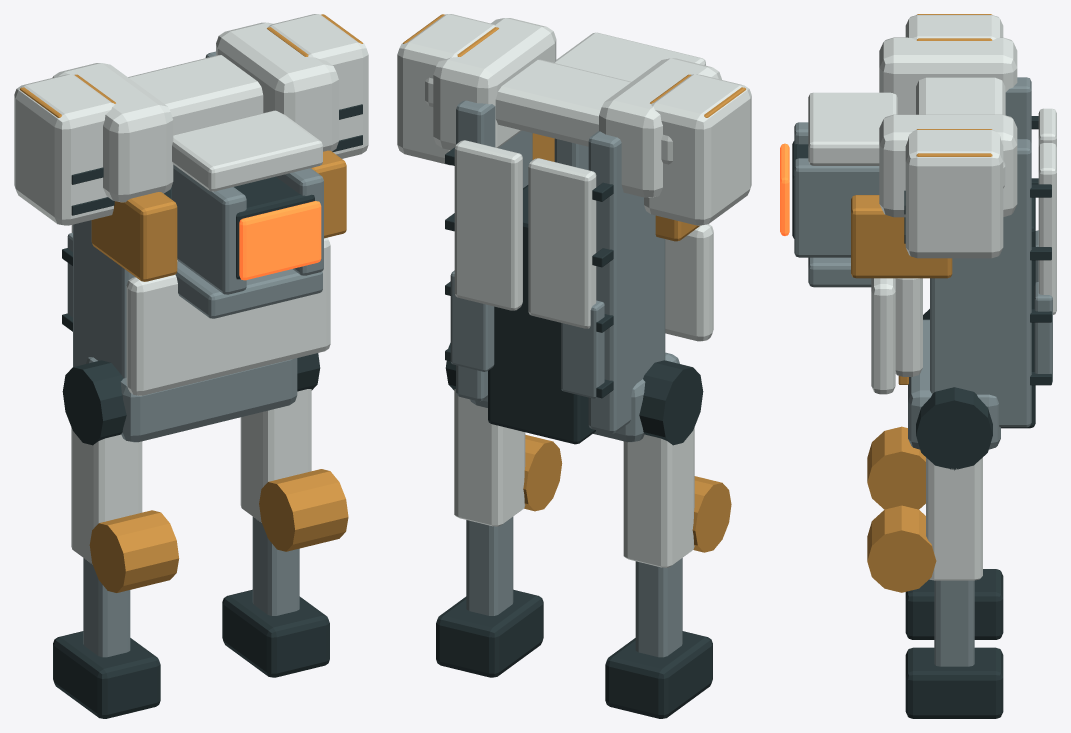
File: build135-sentinel.glb
3 renders of one model, left to right at view 1: azimuth 30°, elevation 25°; view 2: azimuth 150°, elevation 25°; view 3: azimuth 270°, elevation 25°, orthographic. The views are drawn at different scales.
Visible parts, largest first — view 1: LoadFrame_Service ivory enamel, LoadFrame_Exposed bearing steel, LoadFrame_Protected graphite recess, LoadFrame_Safety ochre, ShutterTop, FootLeft, FootRight, UpperLeft, UpperRight, KneeLeft, KneeRight, Optic (+3 smaller); view 2: LoadFrame_Service ivory enamel, LoadFrame_Exposed bearing steel, LoadFrame_Protected graphite recess, UpperLeft, UpperRight, FootLeft, FootRight, LowerLeft, LowerRight, ShutterTop, VaneLeft, VaneRight (+3 smaller); view 3: LoadFrame_Service ivory enamel, LoadFrame_Exposed bearing steel, LoadFrame_Protected graphite recess, FootRight, UpperRight, LoadFrame_Safety ochre, ShutterTop, KneeRight, KneeLeft, FootLeft, LowerRight, ShutterBottom (+2 smaller).
Boxes of the visible parts, x1,y1,x2,y2 form: LoadFrame_Service ivory enamel: [14, 14, 368, 395]; LoadFrame_Exposed bearing steel: [73, 51, 323, 442]; LoadFrame_Protected graphite recess: [62, 104, 362, 445]; LoadFrame_Safety ochre: [20, 14, 362, 281]; ShutterTop: [172, 110, 322, 191]; FootLeft: [53, 631, 160, 718]; FootRight: [222, 589, 329, 677]; UpperLeft: [71, 427, 142, 564]; UpperRight: [240, 389, 311, 522]; KneeLeft: [89, 510, 179, 592]; KneeRight: [259, 469, 348, 551]; Optic: [239, 201, 321, 280]; LoadFrame_Service ivory enamel: [397, 14, 751, 341]; LoadFrame_Exposed bearing steel: [456, 100, 679, 442]; LoadFrame_Protected graphite recess: [445, 147, 703, 445]; UpperLeft: [623, 427, 694, 567]; UpperRight: [454, 389, 525, 526]; FootLeft: [605, 631, 712, 718]; FootRight: [436, 589, 543, 677]; LowerLeft: [635, 558, 682, 657]; LowerRight: [466, 517, 513, 615]; ShutterTop: [555, 32, 705, 81]; VaneLeft: [561, 300, 604, 398]; VaneRight: [450, 270, 494, 371]; LoadFrame_Service ivory enamel: [871, 15, 1056, 394]; LoadFrame_Exposed bearing steel: [794, 77, 1031, 449]; LoadFrame_Protected graphite recess: [792, 116, 1051, 470]; FootRight: [905, 647, 1003, 718]; UpperRight: [926, 457, 982, 580]; LoadFrame_Safety ochre: [851, 14, 992, 384]; ShutterTop: [808, 92, 897, 165]; KneeRight: [867, 505, 936, 592]; KneeLeft: [867, 426, 925, 509]; FootLeft: [905, 569, 1003, 639]; LowerRight: [934, 580, 974, 666]; ShutterBottom: [808, 257, 871, 287].
Bounding box in the file's own units: 0.85 × 1.59 × 0.6825.
